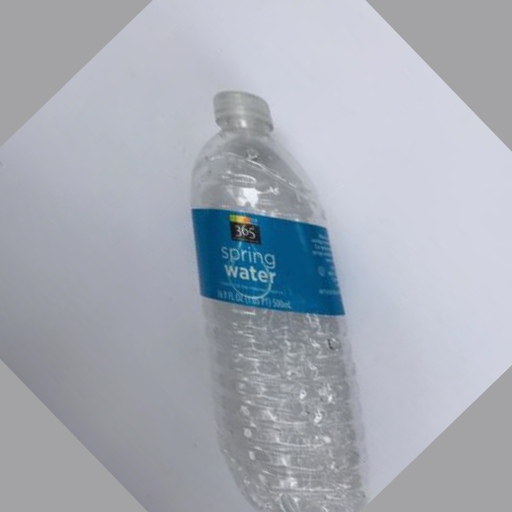Plastic_0: (190, 89, 368, 512)
